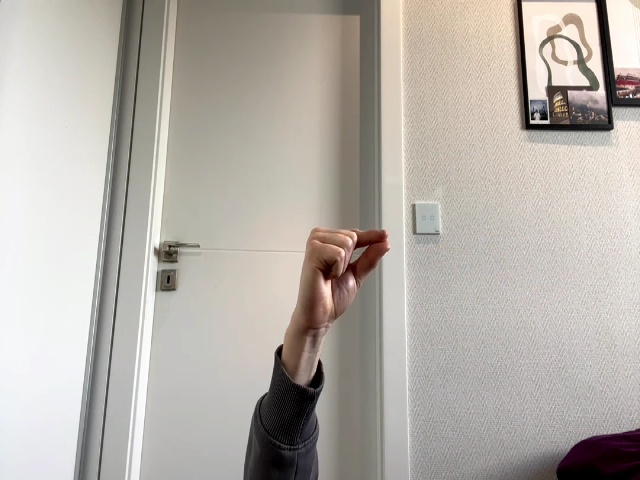P: (294, 227, 392, 339)
